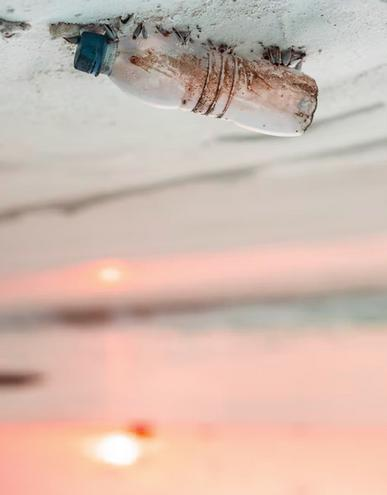Plastic: (56, 14, 323, 145)
